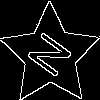N: (25, 30, 81, 86)
